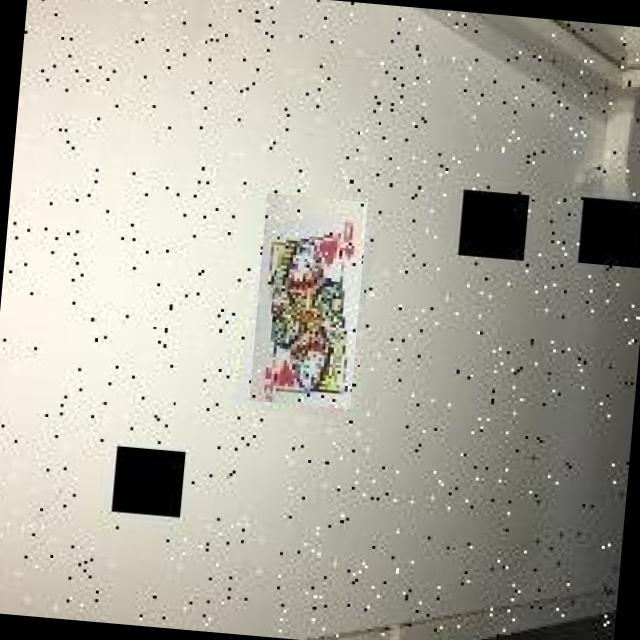Queen of hearts: (248, 193, 368, 410)
